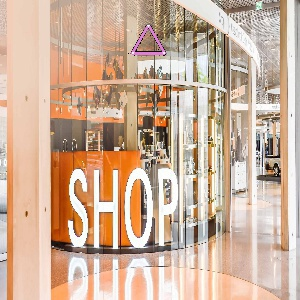triangle: (127, 22, 171, 59)
